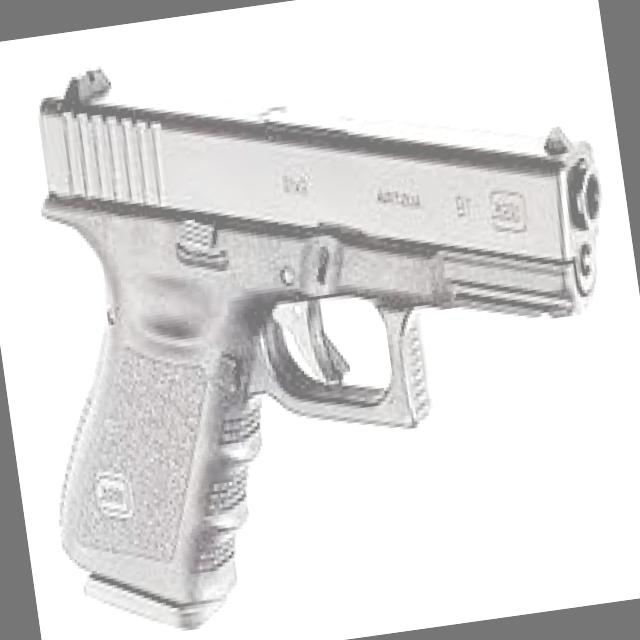semi automatic: (0, 0, 640, 634)
